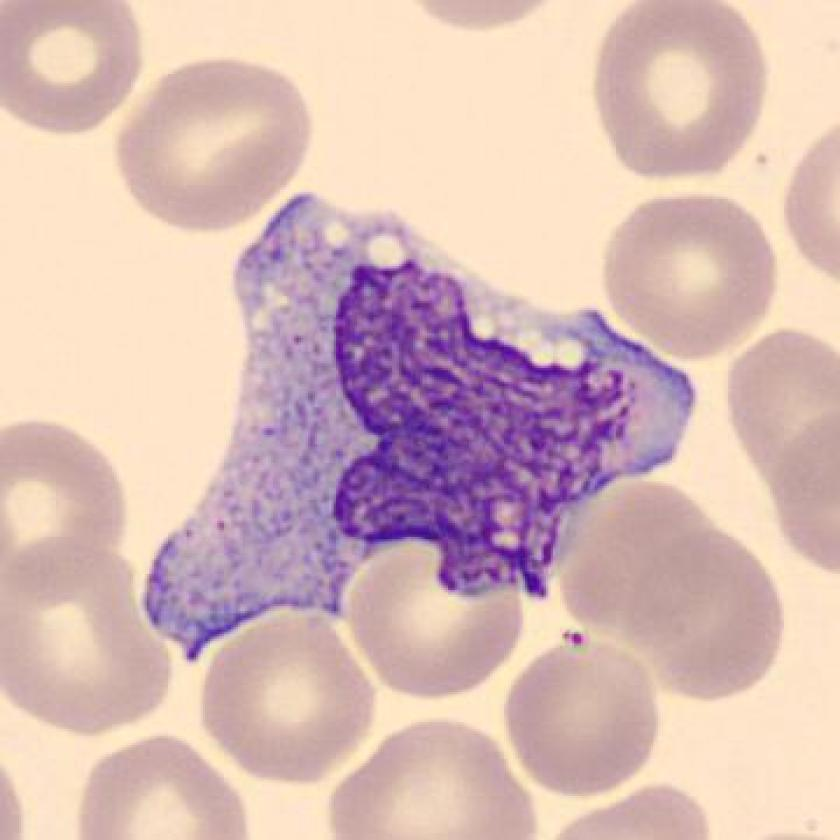monocyte: (125, 163, 708, 684)
